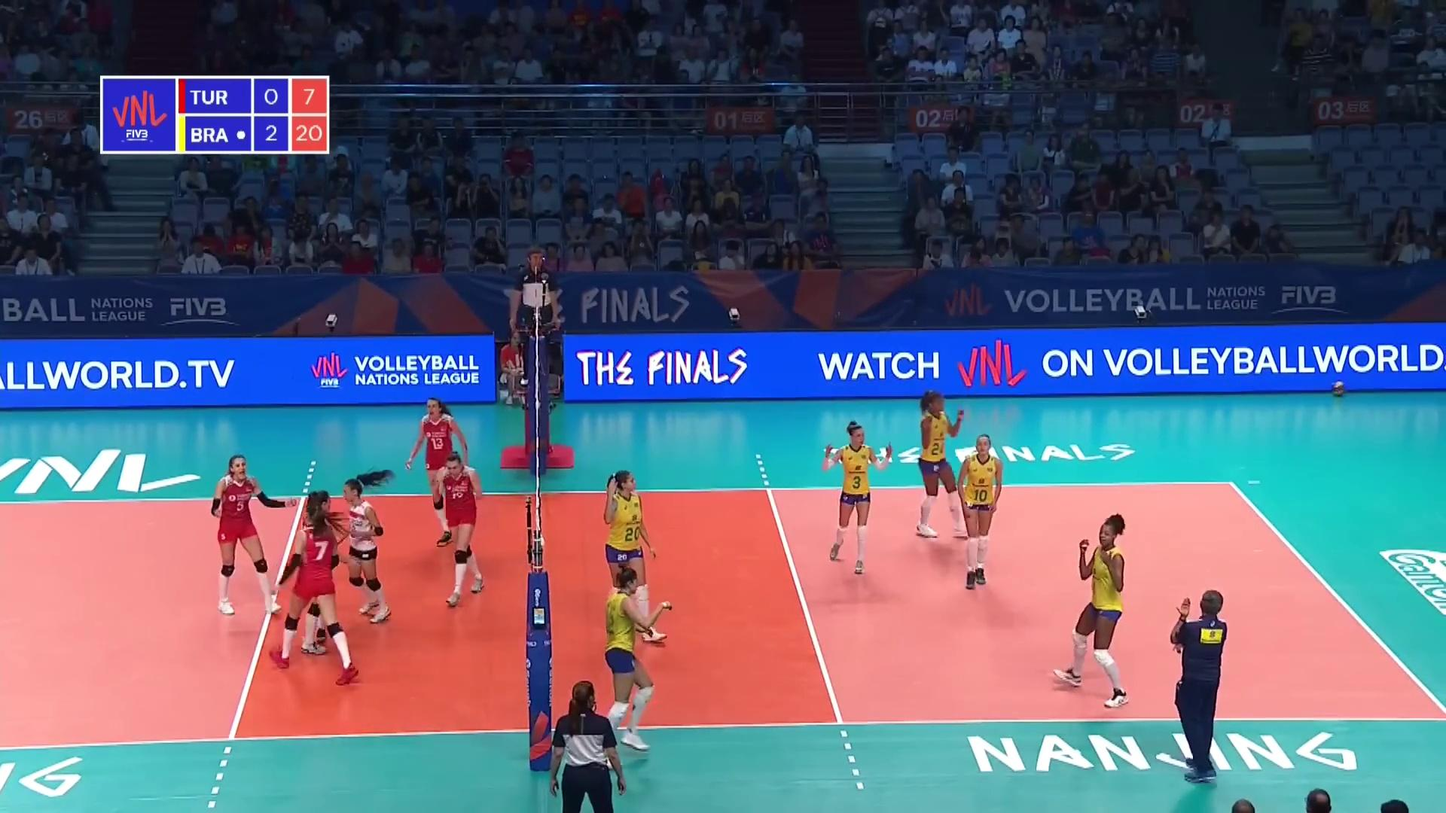player: (275, 499, 358, 685), (1053, 512, 1127, 707), (210, 455, 296, 614), (606, 570, 671, 753), (604, 471, 670, 642), (822, 422, 891, 575), (410, 398, 470, 547), (337, 470, 395, 620), (915, 394, 971, 538), (438, 450, 485, 606), (959, 436, 1005, 590), (302, 490, 338, 654)
refree: (549, 677, 625, 811), (508, 248, 560, 376)
